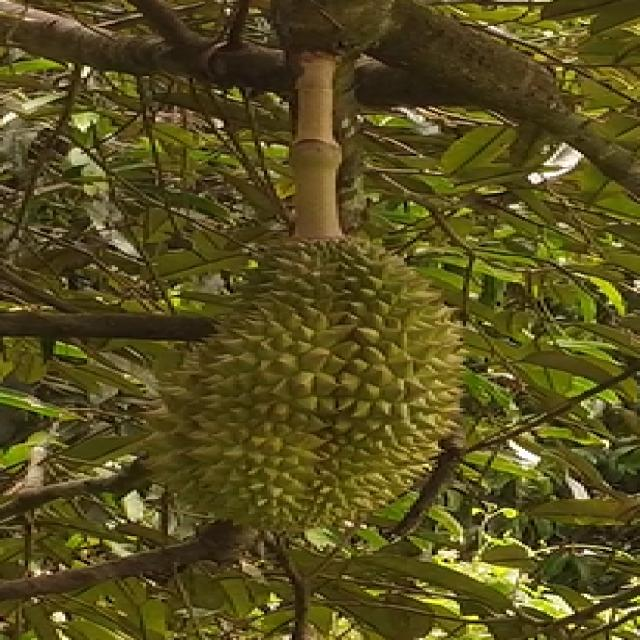immature: (127, 231, 480, 535)
